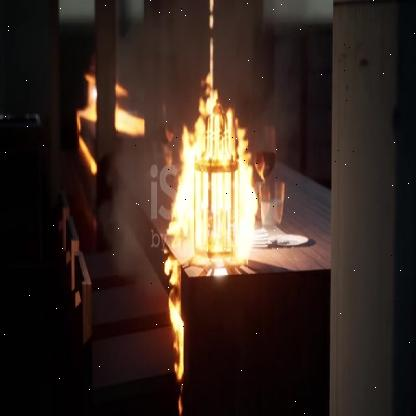fire: (169, 70, 275, 278)
smoke: (91, 0, 296, 282)
